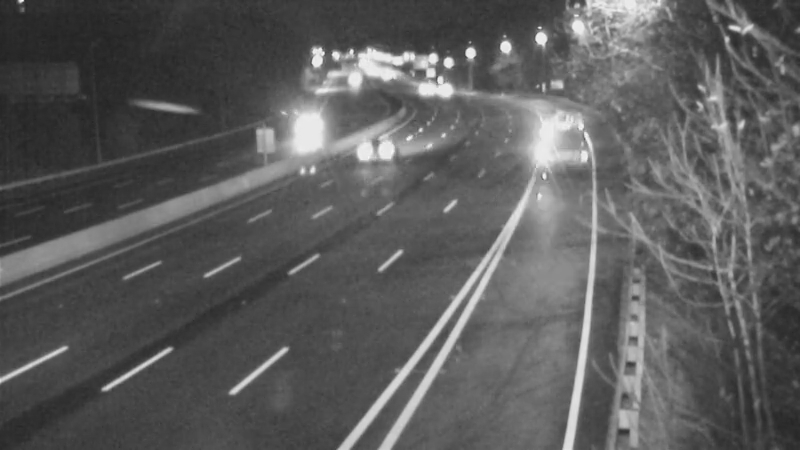vehicle: (397, 67, 447, 117), (418, 65, 468, 115), (536, 102, 586, 152), (353, 125, 403, 175), (281, 106, 331, 156)
